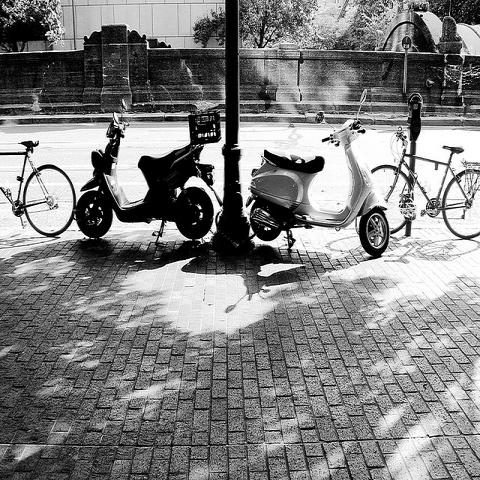motorcycle: (246, 88, 390, 258), (74, 98, 223, 245)
